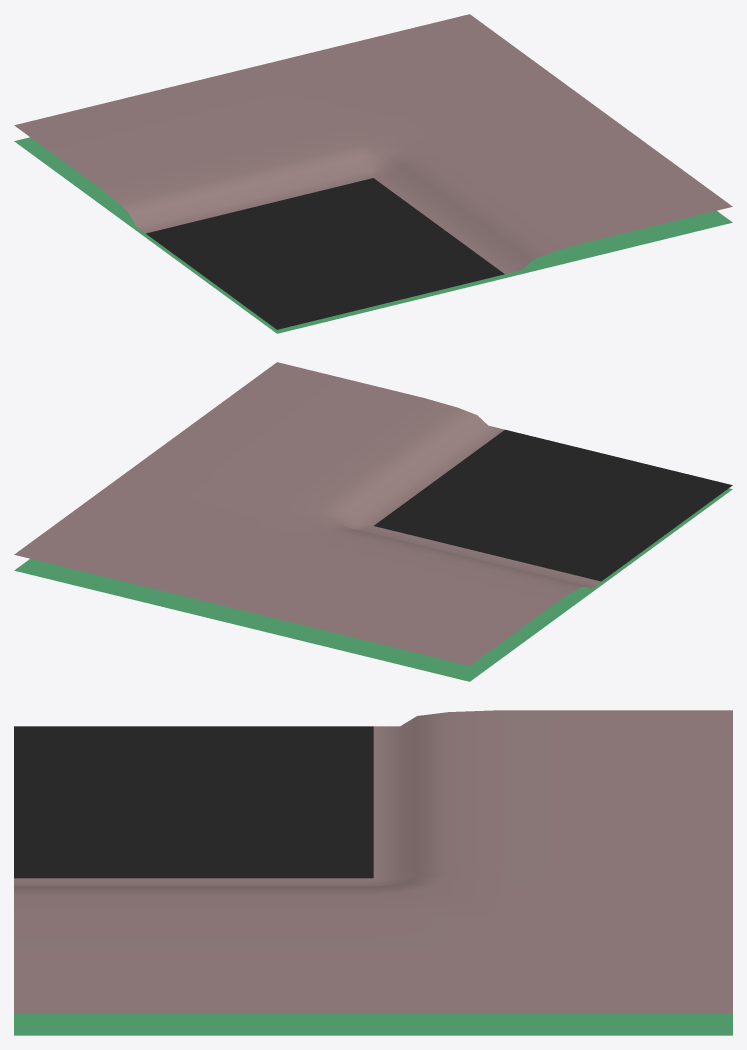
File: sidewalk corn in lod1.FBX
The picture shows the model from 3 angles, top to bottom: view 1: azimuth 30°, elevation 25°; view 2: azimuth 150°, elevation 25°; view 3: azimuth 270°, elevation 25°; orthographic projection. The views are drawn at different scales.
Visible parts, largest first — view 1: Plane032; view 2: Plane032; view 3: Plane032.
Part boxes in pixels (x1=…): Plane032: x1=14, y1=14, x2=732, y2=333; Plane032: x1=14, y1=362, x2=732, y2=681; Plane032: x1=14, y1=710, x2=732, y2=1035.
Size of the model in its own units: 3 by 0.1 by 3.
